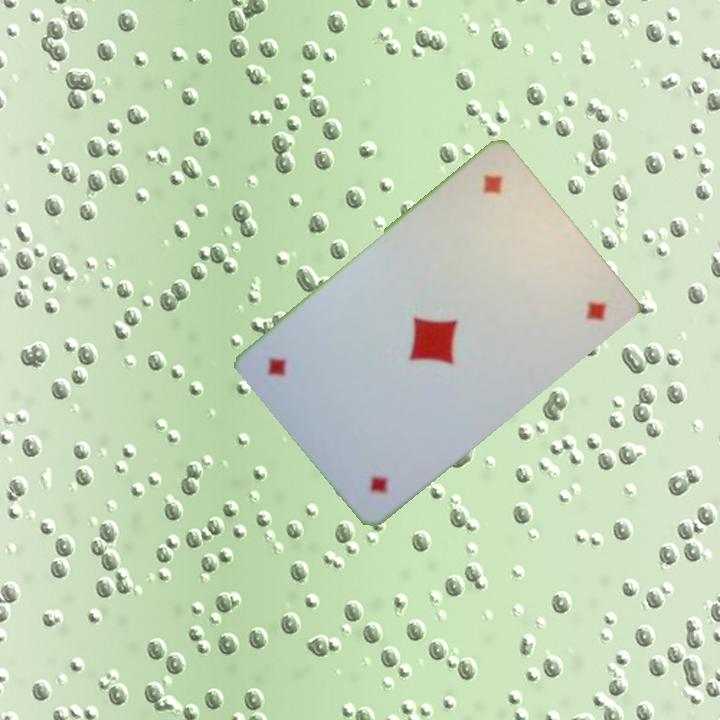d_a.png: (433, 157, 561, 287), (310, 380, 438, 509)
